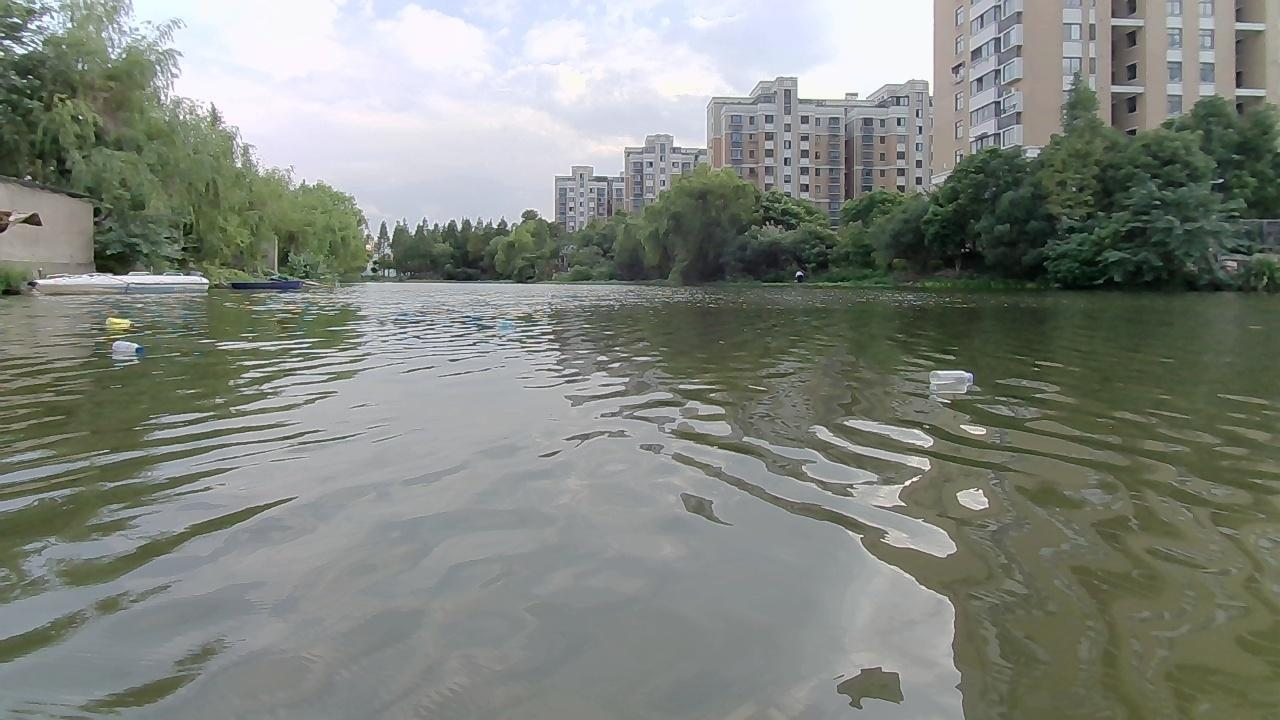bottle: (923, 368, 975, 384), (111, 338, 140, 352), (103, 315, 130, 326)
